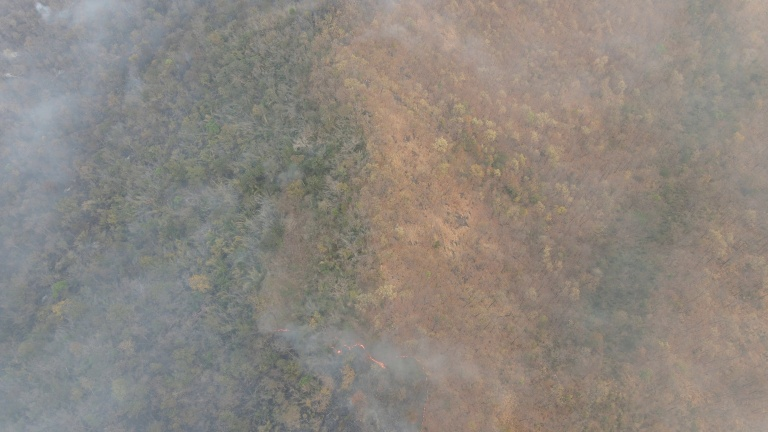fire: (260, 324, 426, 370), (414, 371, 446, 432)
smoke: (1, 1, 208, 430), (354, 2, 768, 102), (257, 301, 499, 432)
